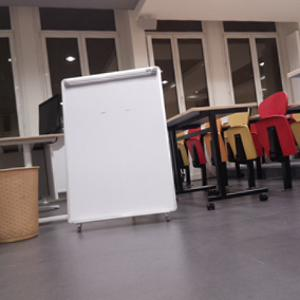big: (61, 69, 180, 227)
medium: (1, 165, 42, 243)
